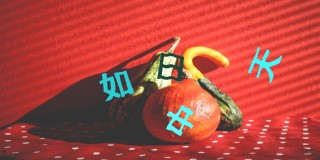中: (163, 105, 195, 136)
天: (246, 46, 282, 84)
如: (99, 70, 136, 103)
日: (157, 51, 185, 83)
